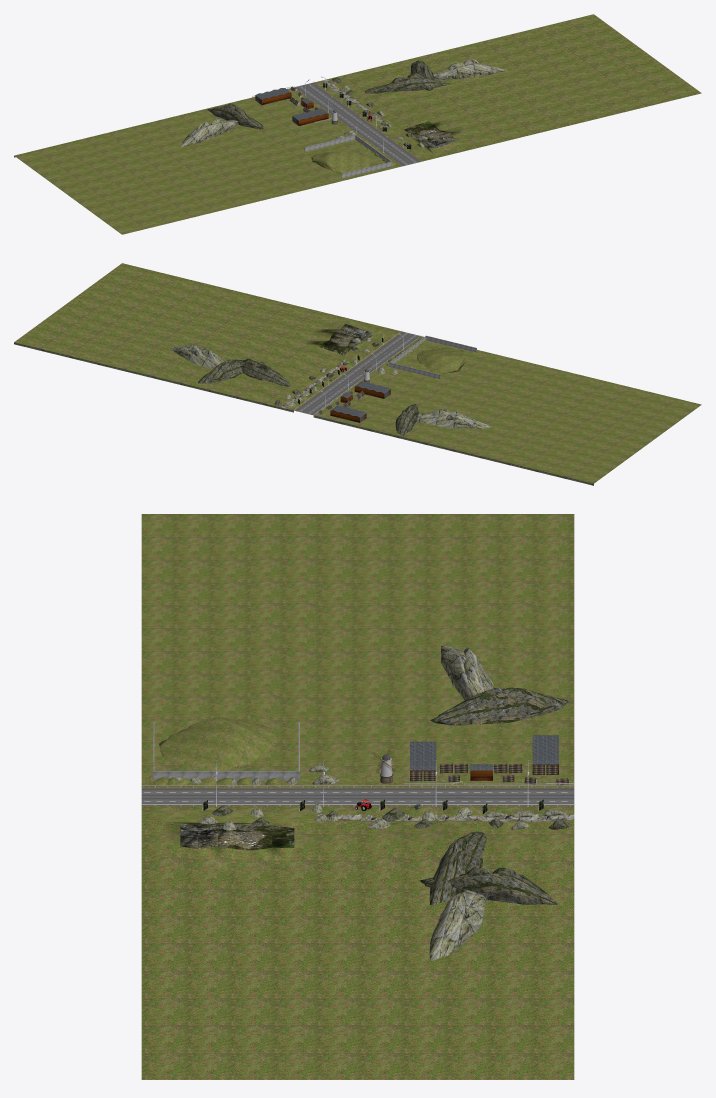
Rendered from green _ p_04.FBX.
3 renders of one model, top to bottom at view 1: azimuth 30°, elevation 25°; view 2: azimuth 150°, elevation 25°; view 3: azimuth 270°, elevation 25°, orthographic. The views are drawn at different scales.
Parts seen in each view (by area): view 1: Object632, Object480, Object461, Object569, Object568, Object565, Object628, Object627, Object644, Object643; view 2: Object632, Object480, Object461, Object565, Object569, Object628, Object568, Object626, Object627, Object644, Object643; view 3: Object632, Object480, Object461, Object627, Object626, Object568, Object569, Object565, Object628, Object644, Object643.
Part boxes in pixels (x1,y1,x2,y2): Object632: (314,14,701,161); Object480: (14,88,401,234); Object461: (294,82,421,166); Object569: (365,73,450,93); Object568: (433,59,506,79); Object565: (181,118,238,146); Object628: (304,135,392,178); Object627: (207,103,263,129); Object644: (255,88,291,105); Object643: (292,108,328,125); Object632: (14,263,401,412); Object480: (313,336,701,485); Object461: (294,331,421,415); Object565: (416,408,491,428); Object569: (229,358,290,386); Object628: (389,335,476,379); Object568: (171,344,224,368); Object626: (198,359,242,383); Object627: (395,404,418,435); Object644: (330,405,366,422); Object643: (354,381,390,398); Object632: (141,806,574,1079); Object480: (141,514,574,787); Object461: (141,787,574,806); Object627: (430,687,570,725); Object626: (419,867,559,904); Object568: (429,890,486,960); Object569: (429,831,486,905); Object565: (441,645,493,700); Object628: (153,722,299,780); Object644: (532,735,558,774); Object643: (410,741,436,781).
Bounding box in the file's own units: 11621 × 376 × 3754.
